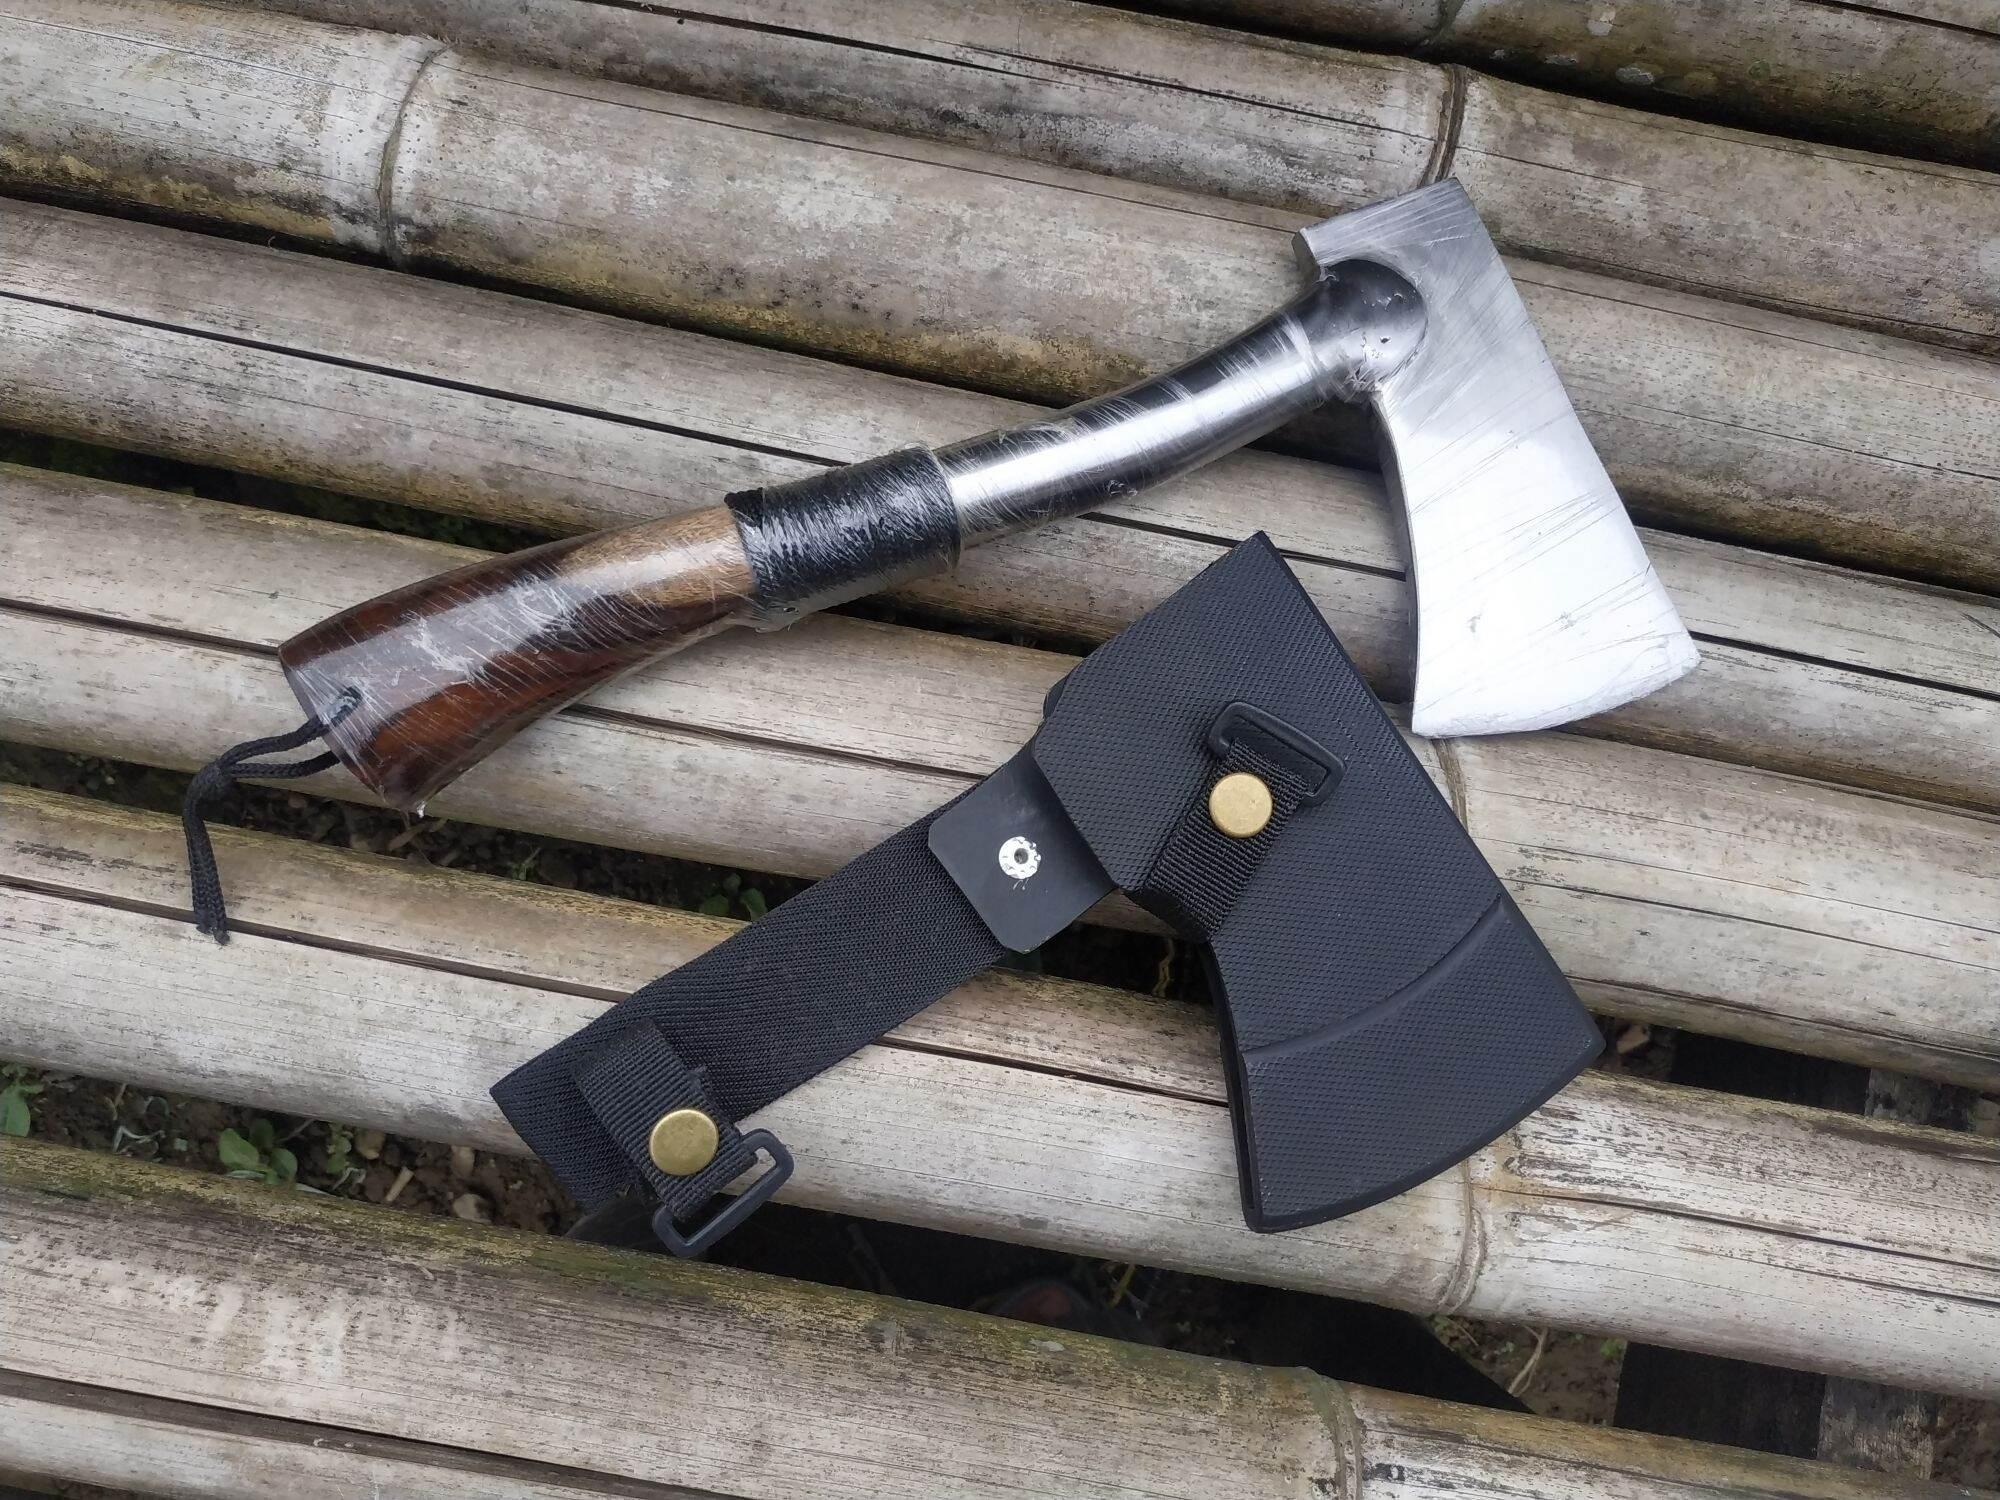machado: (285, 181, 1696, 804), (493, 537, 1602, 1231)
